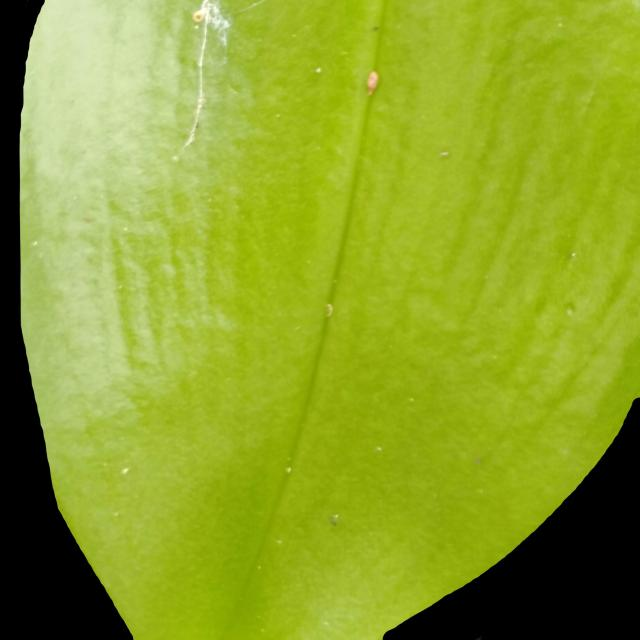mite: (165, 9, 466, 546), (280, 456, 344, 530), (315, 500, 356, 539), (318, 296, 339, 324), (324, 508, 344, 531), (433, 144, 454, 164), (309, 60, 327, 79), (367, 21, 383, 35), (324, 301, 334, 319), (329, 512, 340, 527), (437, 148, 450, 159), (567, 249, 577, 260), (284, 464, 293, 475), (313, 65, 323, 74), (371, 24, 380, 31)
spots: (18, 2, 637, 636)
